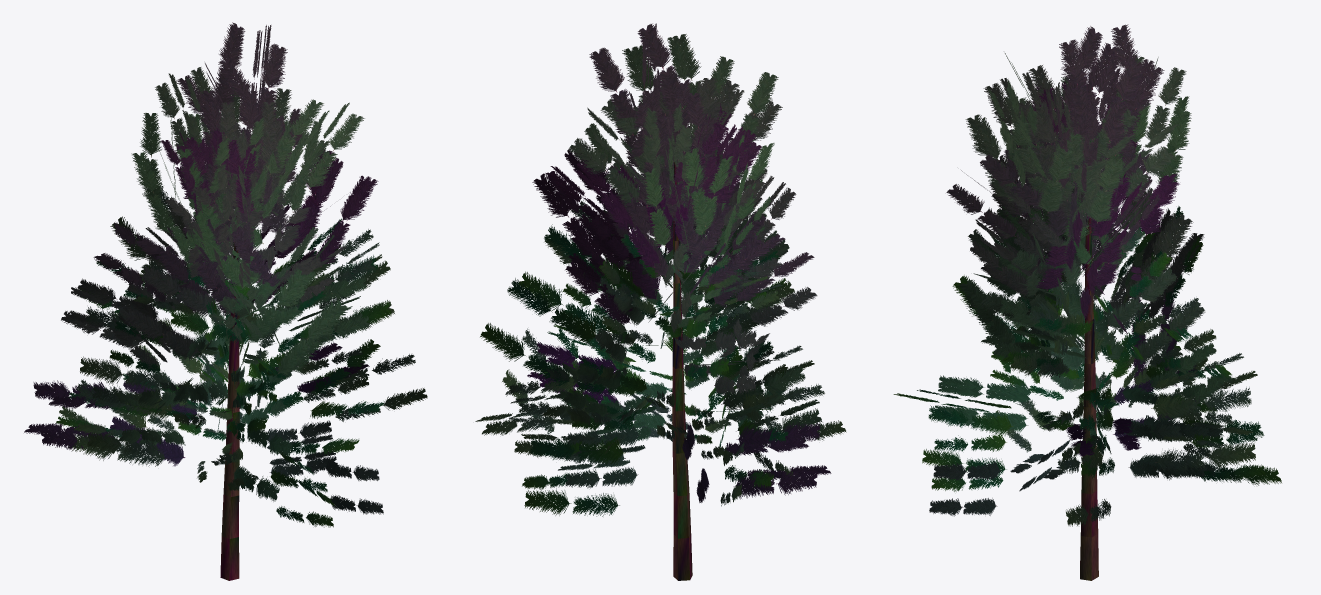
Rendered from nat_pine_b_LOD2.glb.
The picture shows the model from 3 angles, left to right: view 1: azimuth 30°, elevation 25°; view 2: azimuth 150°, elevation 25°; view 3: azimuth 270°, elevation 25°; orthographic projection. The views are drawn at different scales.
Visible parts, largest first — view 1: nat_pine_b_LOD2; view 2: nat_pine_b_LOD2; view 3: nat_pine_b_LOD2.
Boxes of the visible parts, x1,y1,x2,y2 form: nat_pine_b_LOD2: [24, 22, 427, 580]; nat_pine_b_LOD2: [475, 23, 846, 580]; nat_pine_b_LOD2: [893, 24, 1281, 580].
Size of the model in its own units: 8.39 by 11.88 by 7.98.
2 materials, 2 textured.
